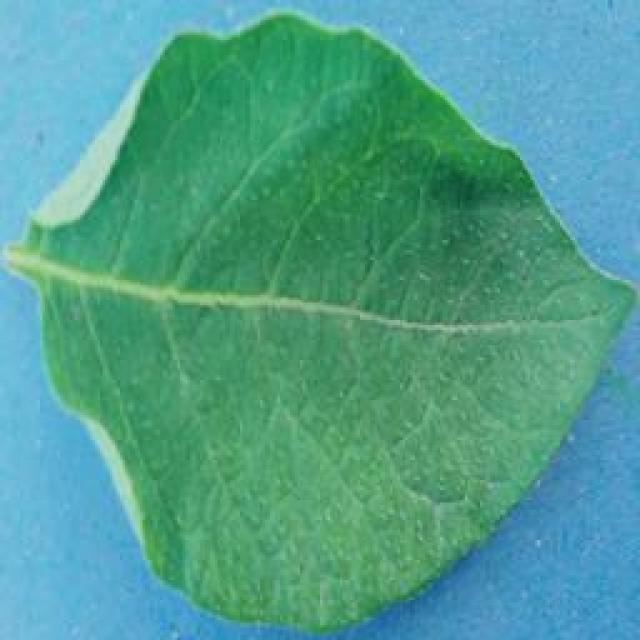Potato_Healthy: (4, 8, 627, 633)
